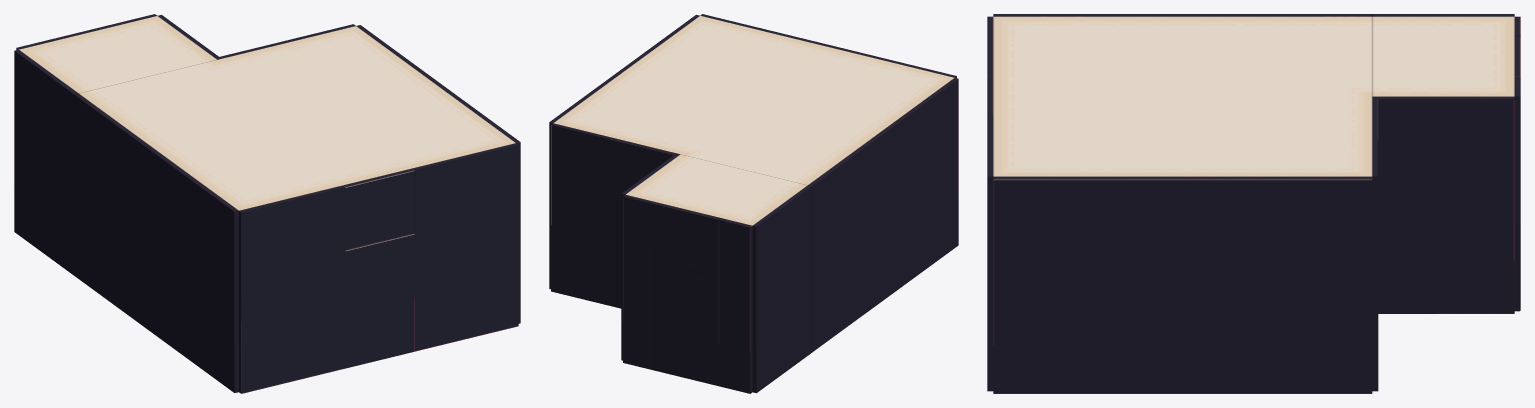
Rendered from Study_Burgundy.fbx.
3 renders of one model, left to right at view 1: azimuth 30°, elevation 25°; view 2: azimuth 150°, elevation 25°; view 3: azimuth 270°, elevation 25°, orthographic. The views are drawn at different scales.
Parts seen in each view (by area): view 1: Model, WallReplacement_1; view 2: Model, WallReplacement; view 3: Model.
Part boxes in pixels (x1=…): Model: x1=14, y1=14, x2=520, y2=393; WallReplacement_1: x1=345, y1=234, x2=414, y2=368; Model: x1=549, y1=14, x2=958, y2=393; WallReplacement: x1=655, y1=262, x2=718, y2=385; Model: x1=987, y1=14, x2=1520, y2=393.
Size of the model in its own units: 412 by 250 by 562.
Materials: 1 (1 with a texture image).
